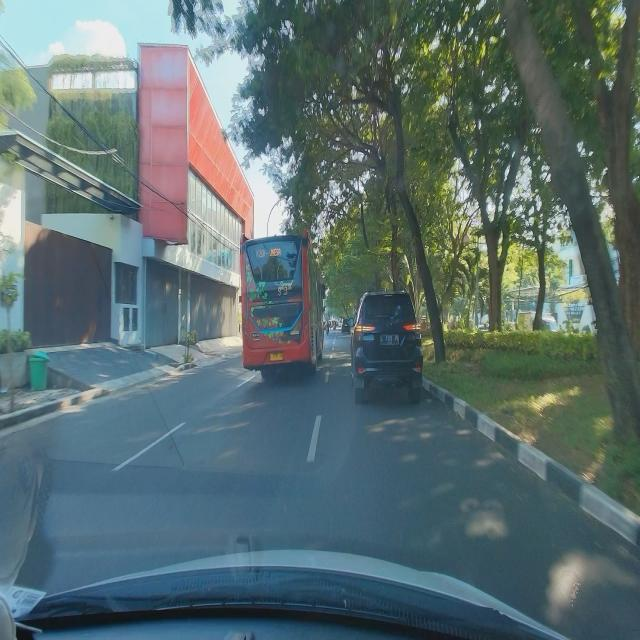bus: (238, 229, 326, 378)
car: (348, 289, 423, 404)
license-plate: (380, 334, 400, 346), (270, 352, 283, 361)
